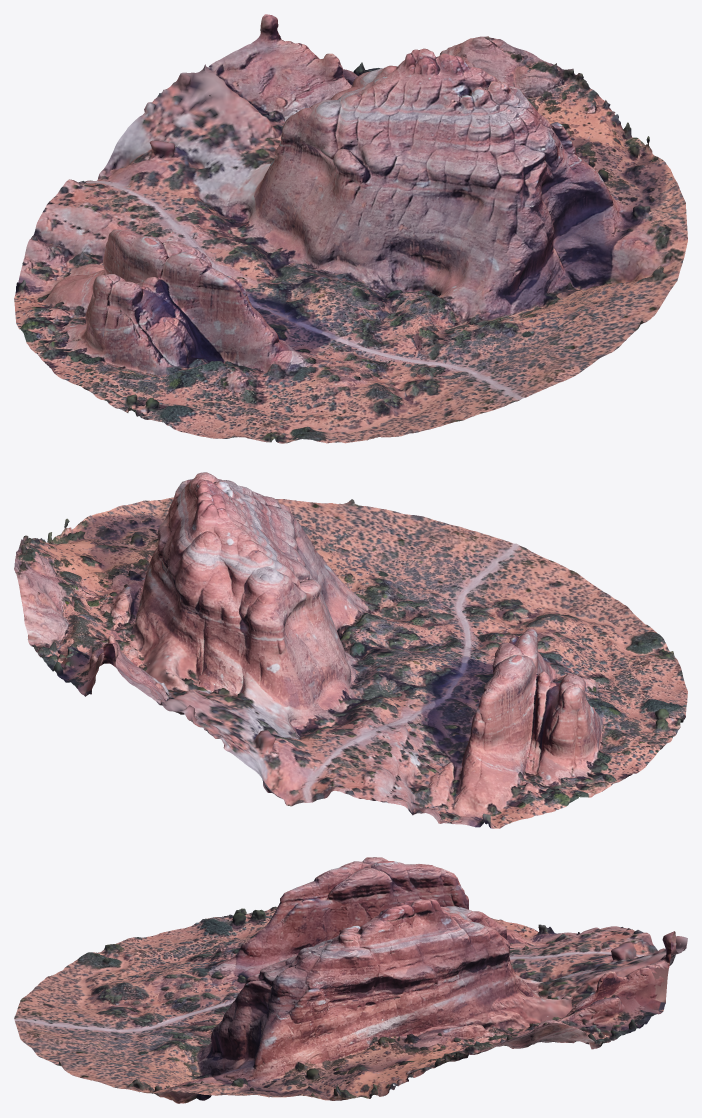
Rendered from terrain_002_-_canyonlands_national_park_ut.glb.
3 renders of one model, top to bottom at view 1: azimuth 30°, elevation 25°; view 2: azimuth 150°, elevation 25°; view 3: azimuth 270°, elevation 25°, orthographic.
Visible parts, largest first — view 1: Object_2; view 2: Object_2; view 3: Object_2.
Part boxes in pixels (bbox=[...]): Object_2: bbox=[14, 14, 687, 443]; Object_2: bbox=[14, 472, 687, 828]; Object_2: bbox=[14, 857, 687, 1103].
Size of the model in its own units: 36.35 by 12.22 by 36.35.
1 material, 1 textured.
